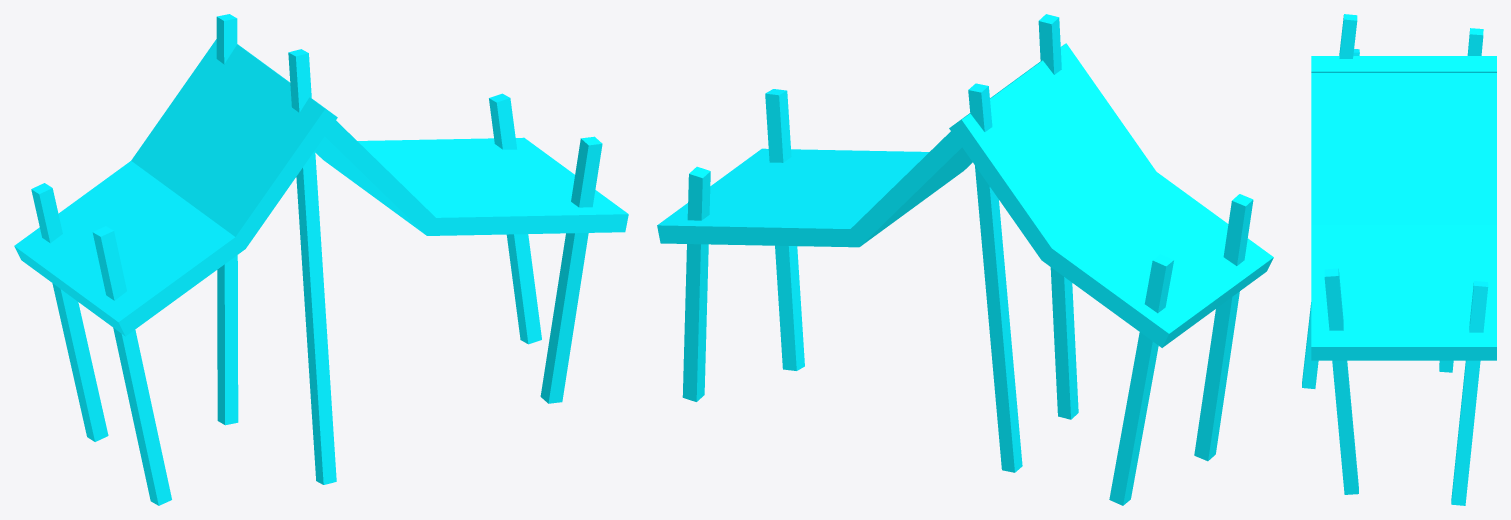
The model's file is SM_Bld_Awning_10_Collision.fbx.
The picture shows the model from 3 angles, left to right: view 1: azimuth 30°, elevation 25°; view 2: azimuth 150°, elevation 25°; view 3: azimuth 270°, elevation 25°; orthographic projection. The views are drawn at different scales.
Parts seen in each view (by area): view 1: SM_Bld_Awning_10_Collision; view 2: SM_Bld_Awning_10_Collision; view 3: SM_Bld_Awning_10_Collision.
Boxes of the visible parts, x1,y1,x2,y2 form: SM_Bld_Awning_10_Collision: (14,14,628,505); SM_Bld_Awning_10_Collision: (657,14,1273,505); SM_Bld_Awning_10_Collision: (1302,14,1496,505).
Bounding box in the file's own units: 723 × 561 × 269.
